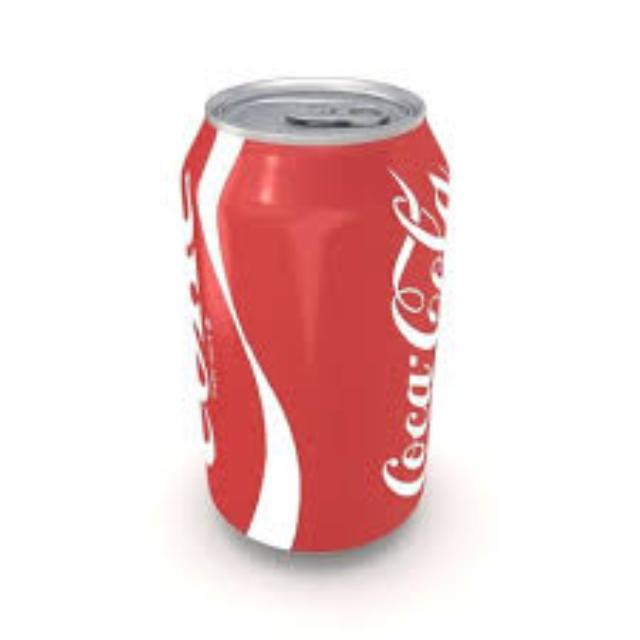metal: (179, 77, 444, 546)
